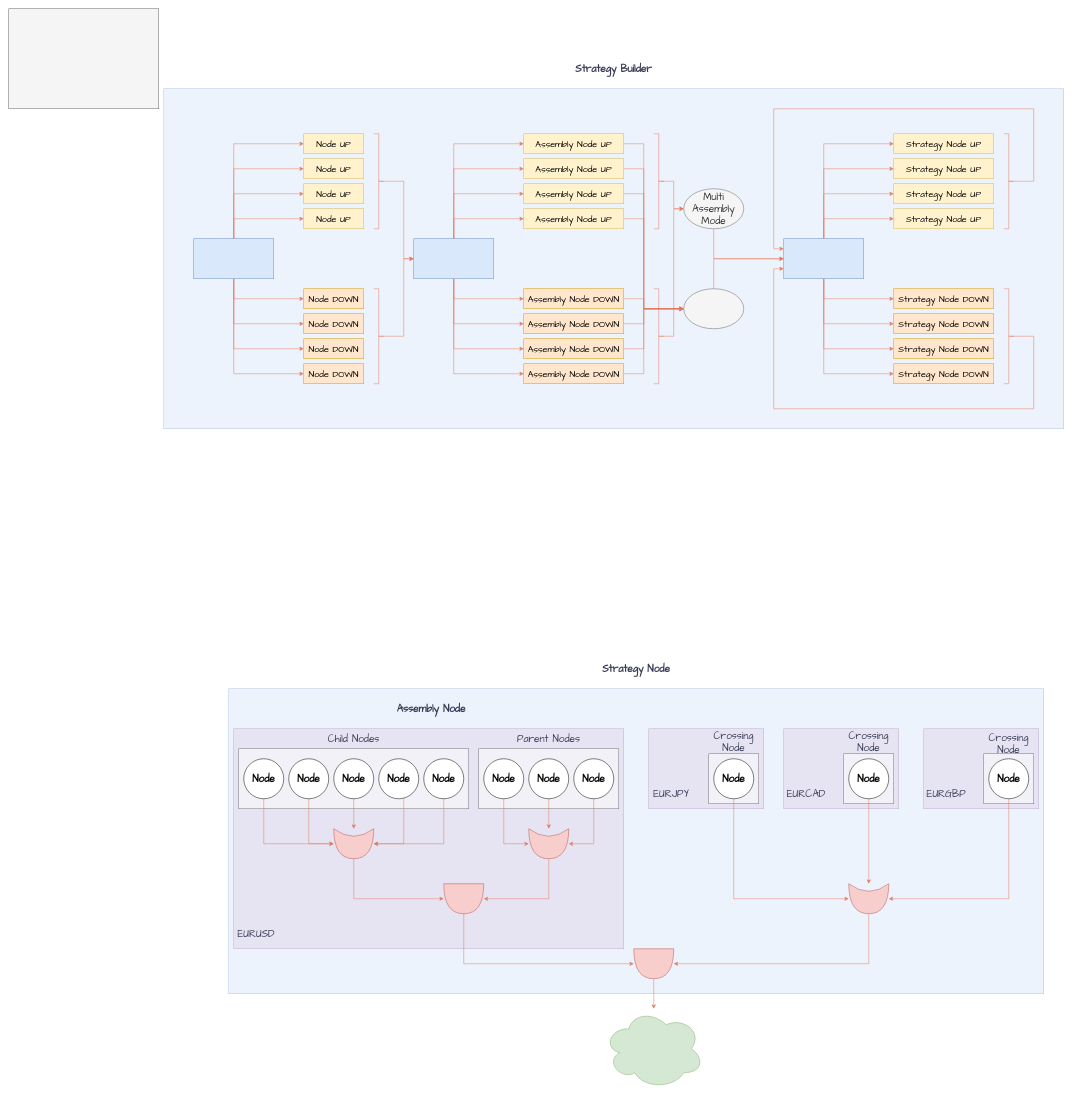
Image size: 1073x1098. Some labels were removed from this diagram. Each missing label, with the centre of its shape:
"Assembly Builder" goes at point 453,258.
"Command - Changes state Query - Retrieves state Event- Notifies state changed" goes at point 83,58.
"Crossing Builder" goes at point 823,258.
"Node Builder" goes at point 233,258.
"Single Assembly Mode" goes at point 713,308.
"Trade Signal" goes at point 653,1048.
